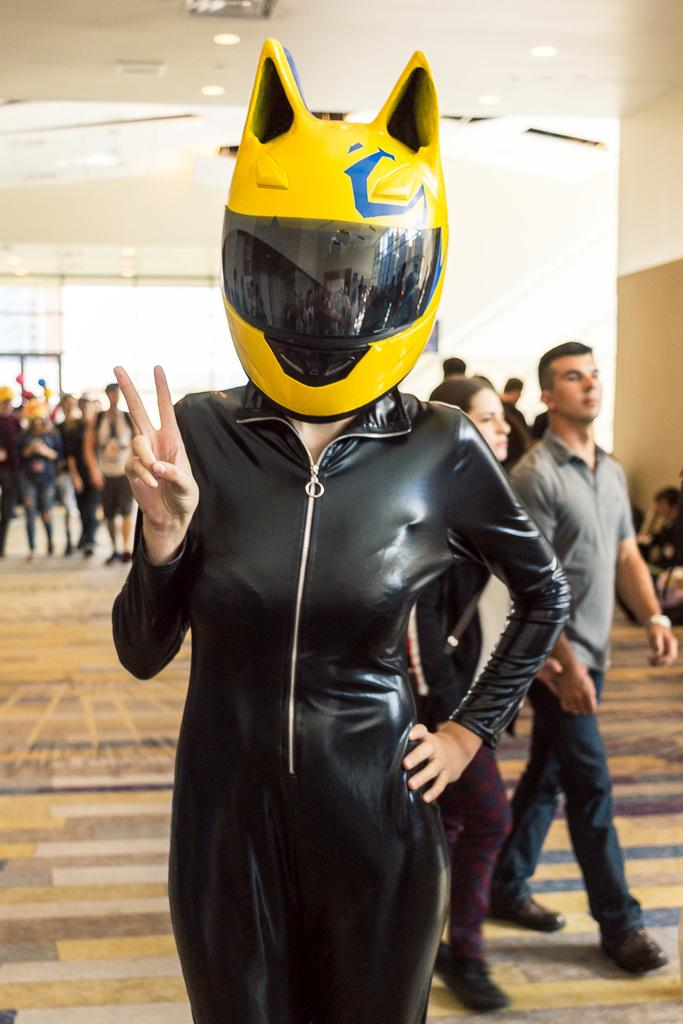helmet: (219, 120, 450, 424)
nohelmet: (425, 376, 513, 469), (536, 339, 605, 429)
